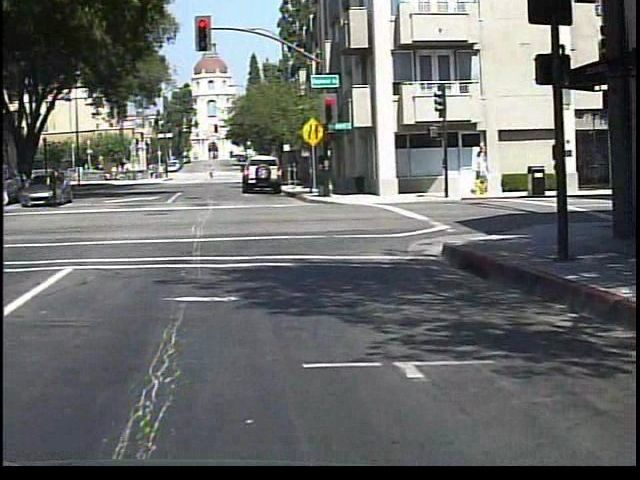person: (46, 165, 69, 210), (210, 164, 221, 182), (7, 168, 8, 221)
